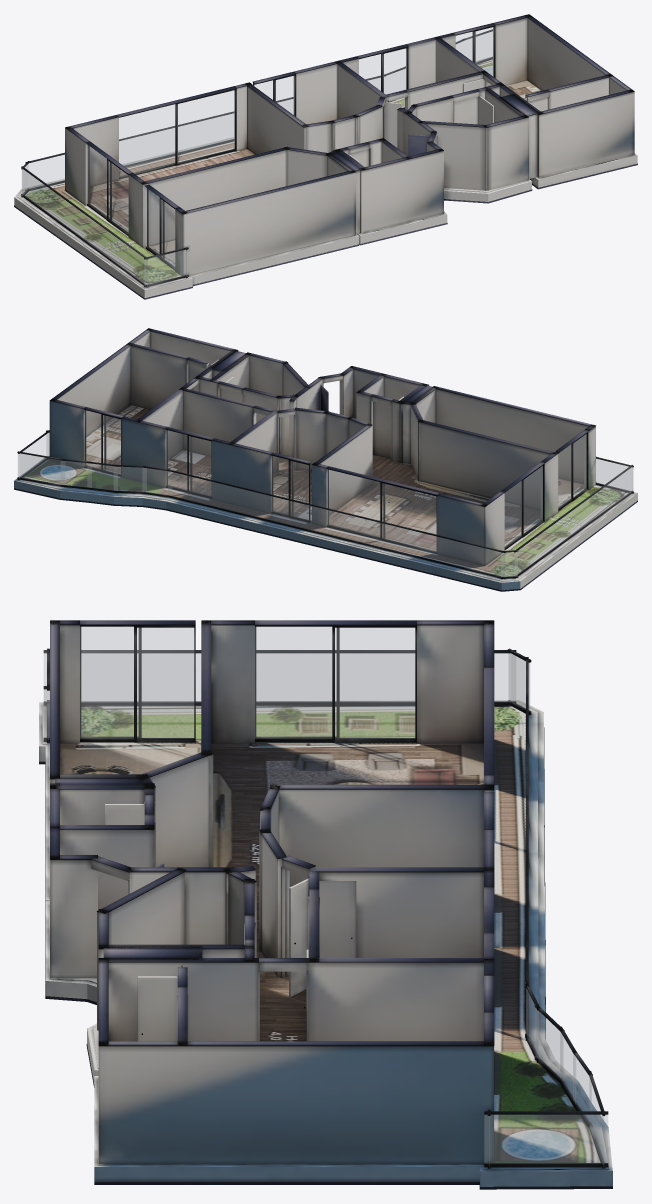
The picture shows the model from 3 angles, top to bottom: view 1: azimuth 30°, elevation 25°; view 2: azimuth 150°, elevation 25°; view 3: azimuth 270°, elevation 25°; orthographic projection. The views are drawn at different scales.
Parts seen in each view (by area): view 1: plan, glass0_m, railg1_m, railg11_m, glass4_m, glass2_m, glass5_m, glass3_m, railg3_m, glass1_m, railg8_m; view 2: plan, railg1_m, glass0_m, railg11_m, glass2_m, glass4_m, glass1_m, glass3_m, glass5_m, railg8_m, railg3_m, railg5_m (+5 smaller); view 3: plan, glass4_m, railg11_m, glass5_m, railg9_m, railg5_m, railg0_m, railg7_m.
Boxes of the visible parts, left/top/right/bottom form: plan: left=14, top=14, right=637, bottom=299; glass0_m: left=119, top=90, right=234, bottom=176; railg1_m: left=26, top=78, right=380, bottom=188; railg11_m: left=22, top=169, right=147, bottom=285; glass4_m: left=88, top=145, right=128, bottom=232; glass2_m: left=359, top=48, right=406, bottom=107; glass5_m: left=146, top=188, right=174, bottom=266; glass3_m: left=456, top=27, right=493, bottom=85; railg3_m: left=144, top=250, right=187, bottom=284; glass1_m: left=254, top=76, right=294, bottom=114; railg8_m: left=465, top=32, right=492, bottom=61; plan: left=14, top=328, right=637, bottom=591; railg1_m: left=168, top=471, right=504, bottom=576; glass0_m: left=327, top=469, right=436, bottom=550; railg11_m: left=514, top=468, right=632, bottom=576; glass2_m: left=166, top=430, right=211, bottom=495; glass4_m: left=505, top=466, right=542, bottom=547; glass1_m: left=272, top=456, right=308, bottom=519; glass3_m: left=85, top=410, right=120, bottom=473; glass5_m: left=558, top=434, right=586, bottom=508; railg8_m: left=18, top=453, right=64, bottom=484; railg3_m: left=596, top=459, right=633, bottom=491; railg5_m: left=114, top=466, right=146, bottom=491; plan: left=39, top=620, right=612, bottom=1189; glass4_m: left=255, top=627, right=414, bottom=738; railg11_m: left=44, top=653, right=515, bottom=701; glass5_m: left=80, top=627, right=193, bottom=738; railg9_m: left=484, top=1115, right=607, bottom=1163; railg5_m: left=536, top=1009, right=562, bottom=1080; railg0_m: left=509, top=653, right=529, bottom=711; railg7_m: left=573, top=1054, right=591, bottom=1122.
Size of the model in its own units: 19.28 by 2.62 by 9.91.
Materials: 2 (1 with a texture image).
